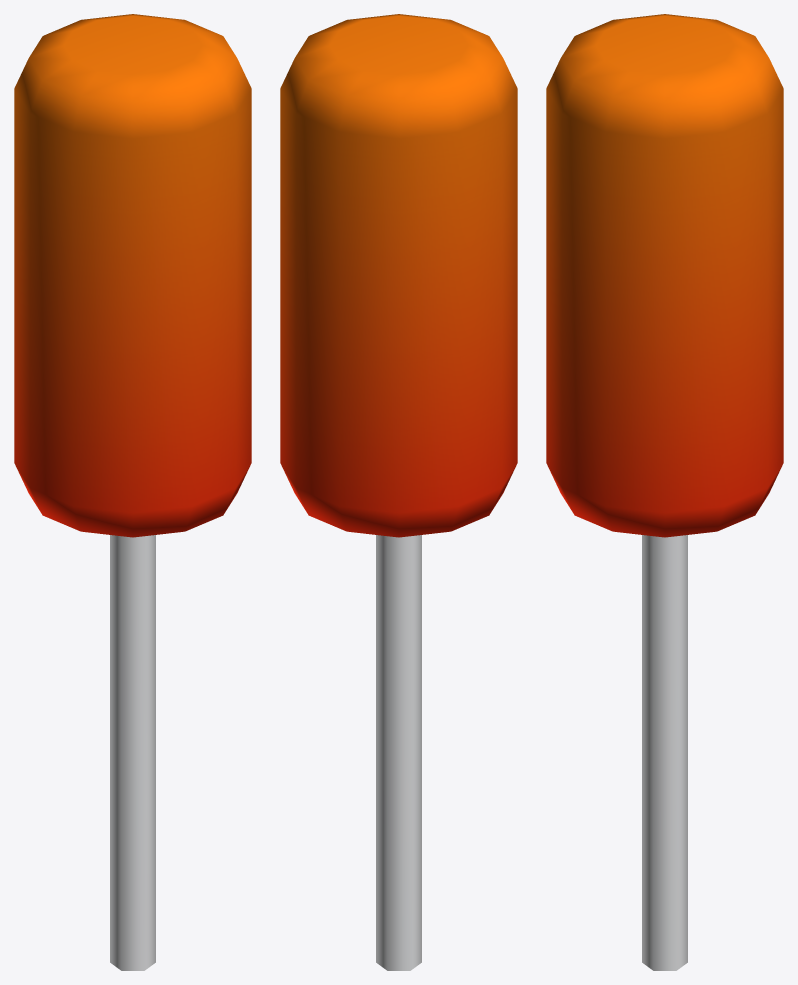
File: lollipop_025.glb
The picture shows the model from 3 angles, left to right: view 1: azimuth 30°, elevation 25°; view 2: azimuth 150°, elevation 25°; view 3: azimuth 270°, elevation 25°; orthographic projection.
Parts seen in each view (by area): view 1: lollipop_025; view 2: lollipop_025; view 3: lollipop_025.
Part boxes in pixels (<box>): lollipop_025: <box>14,14,251,970</box>; lollipop_025: <box>280,14,517,970</box>; lollipop_025: <box>546,14,783,970</box>.
Bounding box in the file's own units: 1.17 × 5 × 1.17.
Materials: 1 (1 with a texture image).
